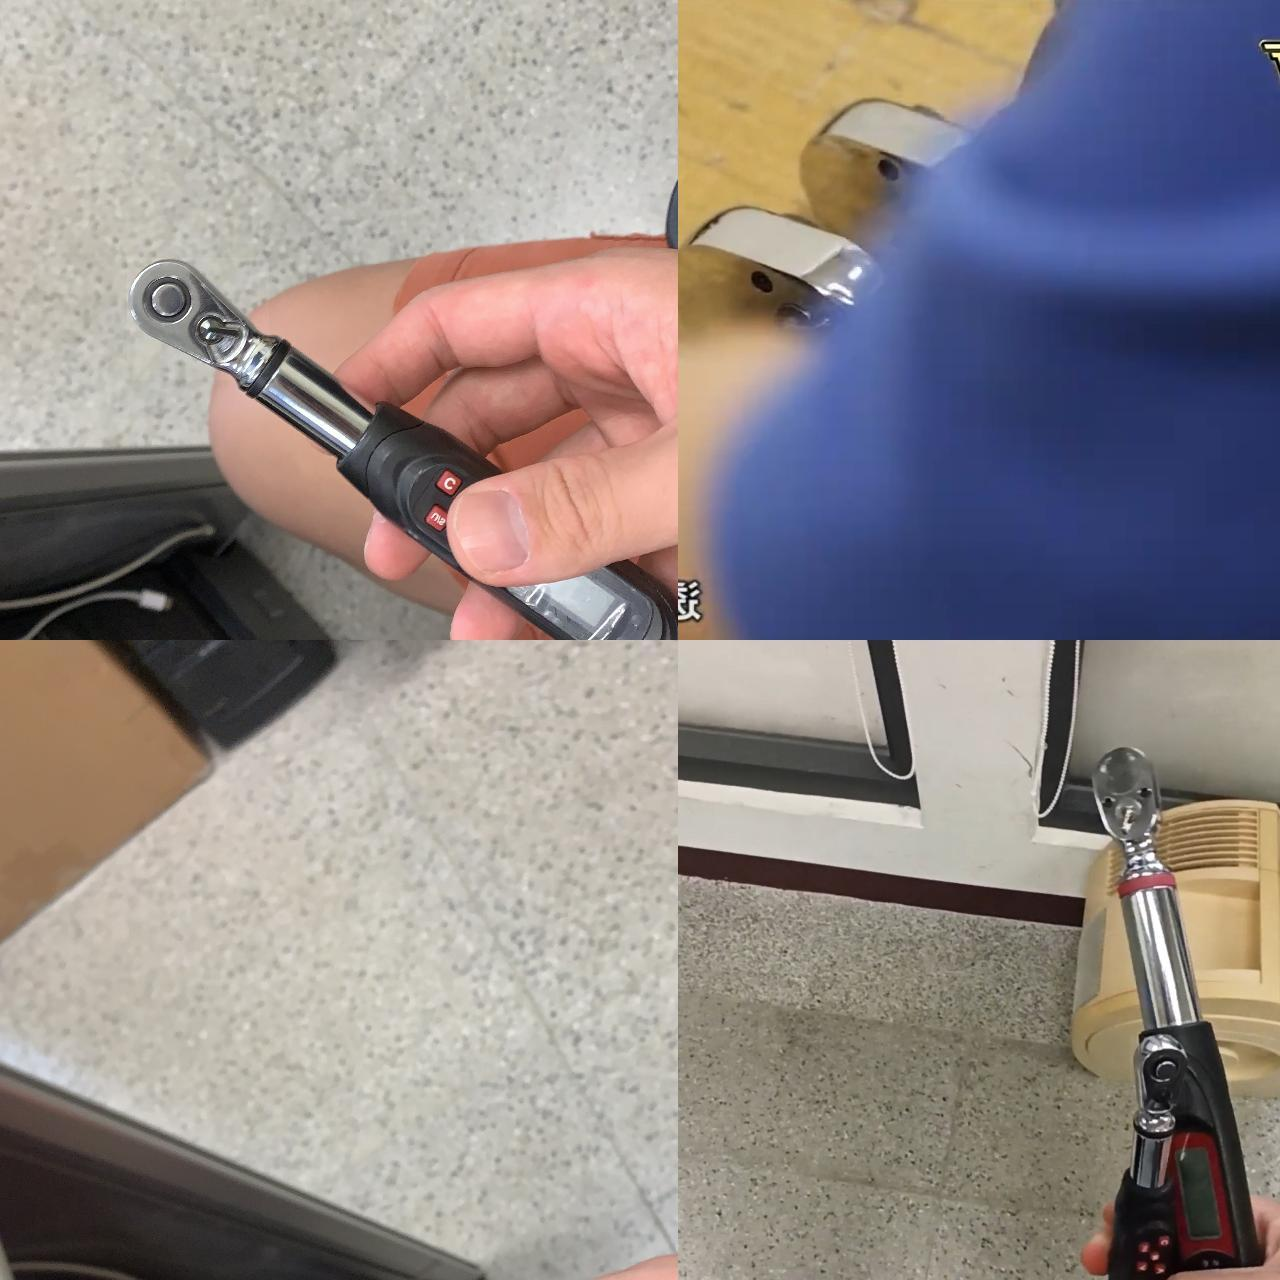Tool: (126, 257, 268, 379), (1092, 746, 1172, 870), (1129, 1035, 1185, 1119)
